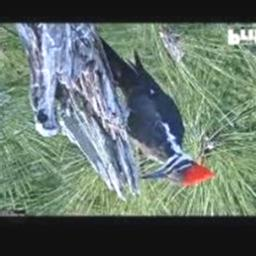Woodpecker: (96, 33, 214, 186)
